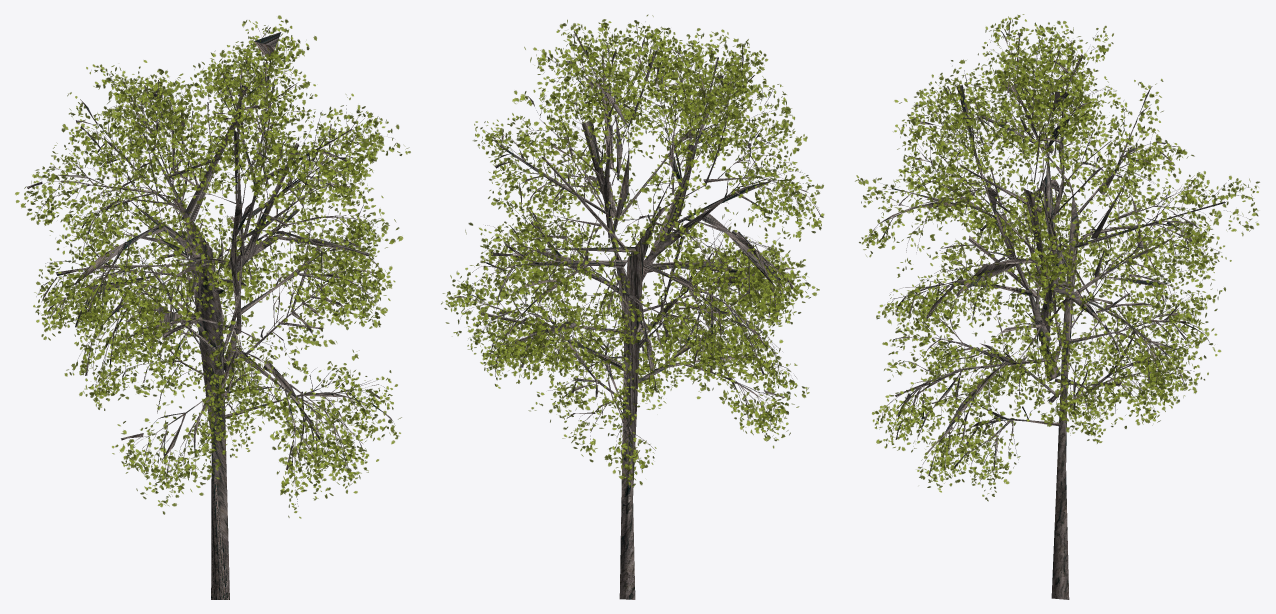
Rendered from tree_01_lod1.glb.
The picture shows the model from 3 angles, left to right: view 1: azimuth 30°, elevation 25°; view 2: azimuth 150°, elevation 25°; view 3: azimuth 270°, elevation 25°; orthographic projection. The views are drawn at different scales.
Visible parts, largest first — view 1: Tree_01_LOD1; view 2: Tree_01_LOD1; view 3: Tree_01_LOD1.
Part boxes in pixels (box(x1,y1,x2,y2)): Tree_01_LOD1: box(15, 15, 410, 599); Tree_01_LOD1: box(441, 14, 824, 599); Tree_01_LOD1: box(855, 14, 1259, 599).
Bounding box in the file's own units: 9.3 × 14.06 × 9.56.
3 materials, 3 textured.
